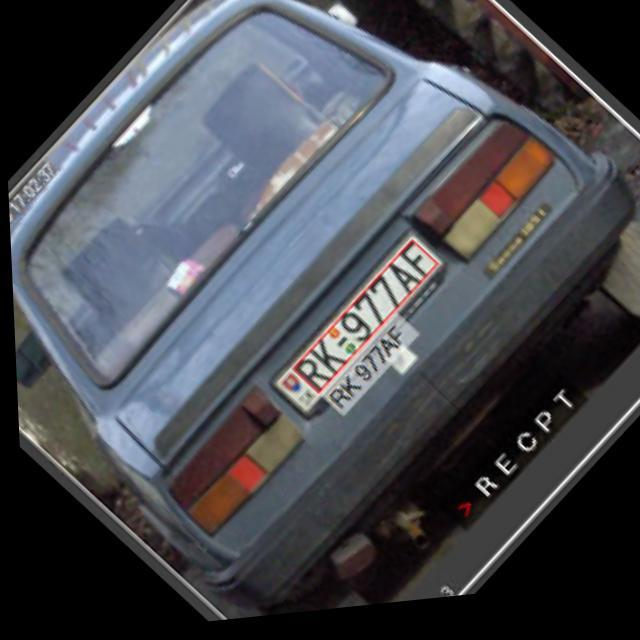license_plate: (275, 240, 442, 409)
